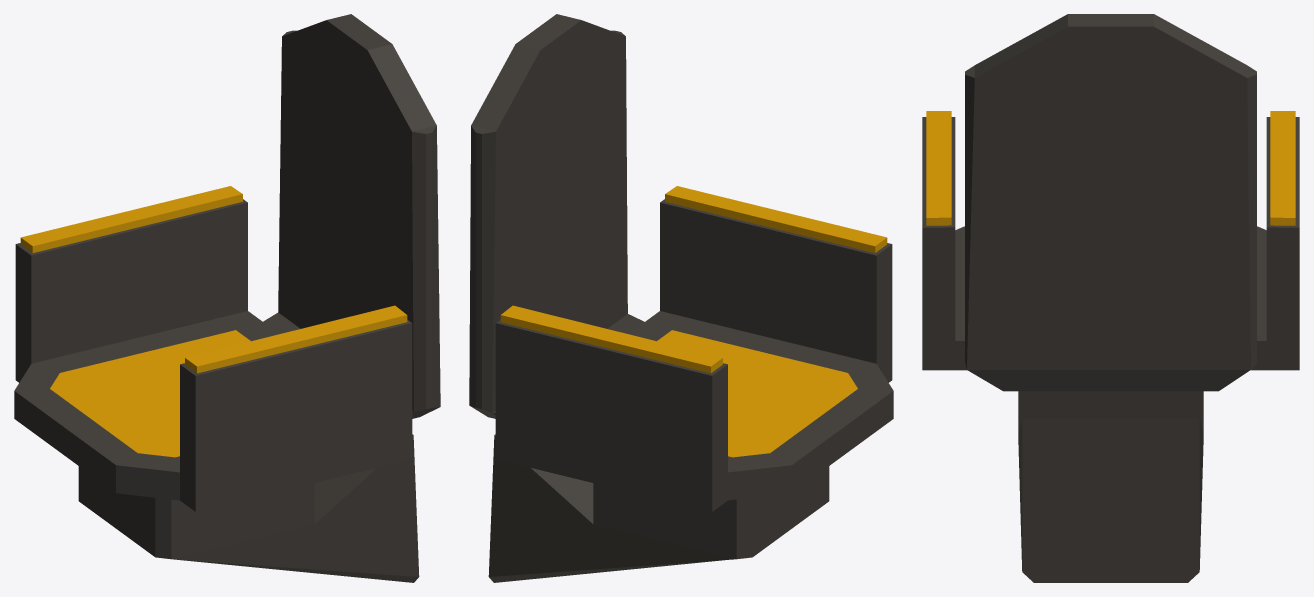
The model's file is Chair.fbx.
The picture shows the model from 3 angles, left to right: view 1: azimuth 30°, elevation 25°; view 2: azimuth 150°, elevation 25°; view 3: azimuth 270°, elevation 25°; orthographic projection. The views are drawn at different scales.
Parts seen in each view (by area): view 1: Cube.012; view 2: Cube.012; view 3: Cube.012.
Part boxes in pixels (x1=…): Cube.012: x1=14, y1=14, x2=440, y2=582; Cube.012: x1=469, y1=14, x2=893, y2=582; Cube.012: x1=922, y1=14, x2=1299, y2=582.
Bounding box in the file's own units: 153 × 247 × 153.
